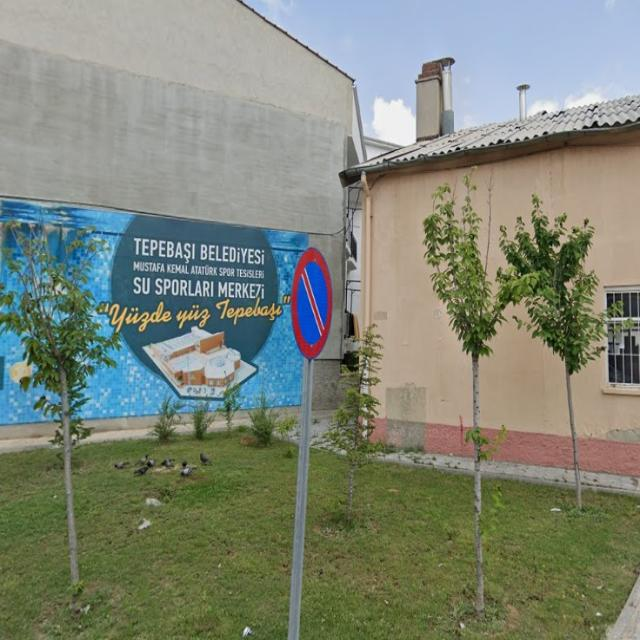parkyasak: (293, 248, 333, 361)
